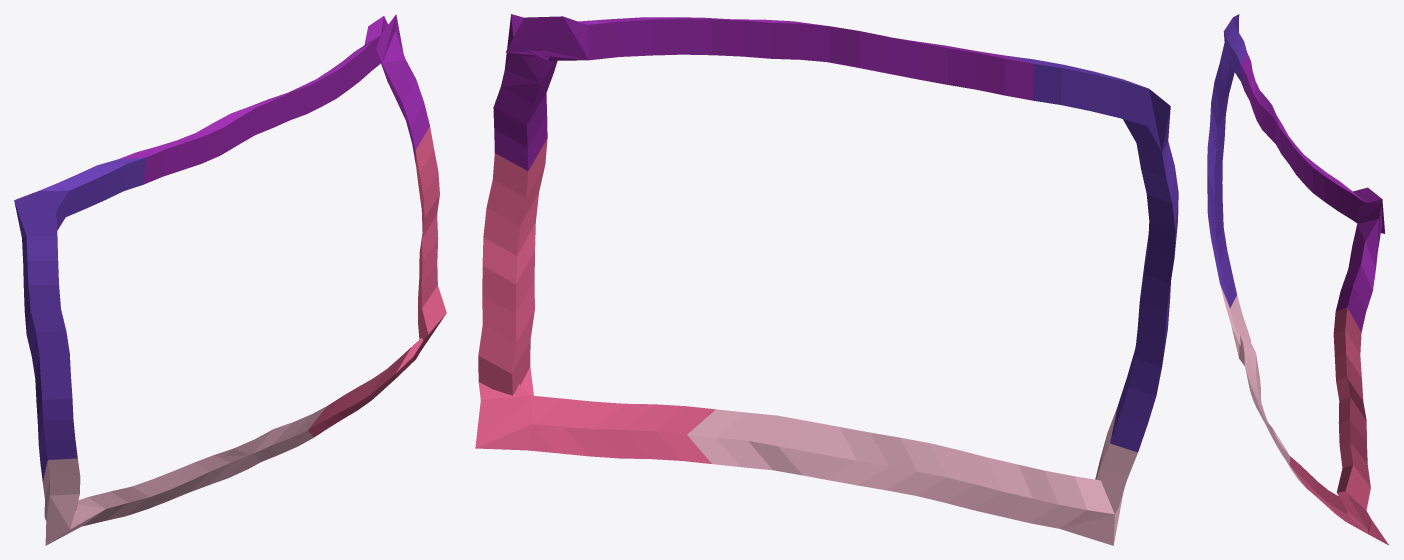
The picture shows the model from 3 angles, left to right: view 1: azimuth 30°, elevation 25°; view 2: azimuth 150°, elevation 25°; view 3: azimuth 270°, elevation 25°; orthographic projection. The views are drawn at different scales.
Parts seen in each view (by area): view 1: group_415487804; view 2: group_415487804; view 3: group_415487804.
Boxes of the visible parts, left/top/right/bottom form: group_415487804: left=14, top=14, right=446, bottom=545; group_415487804: left=475, top=14, right=1178, bottom=545; group_415487804: left=1207, top=14, right=1389, bottom=545.
Bounding box in the file's own units: 89.37 × 65.99 × 30.81.
